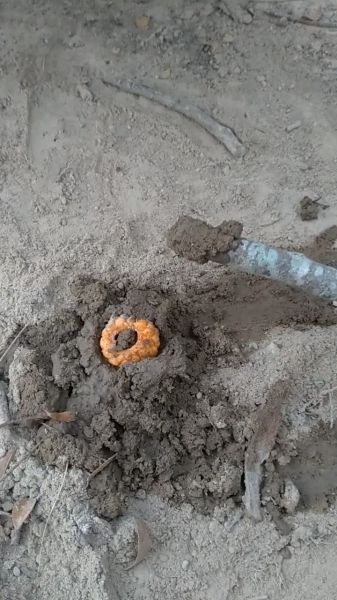eggs: (96, 308, 165, 372)
